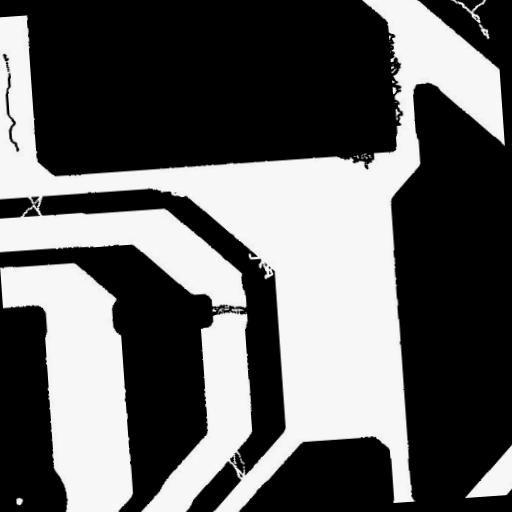copper: (0, 44, 27, 159)
mousebite: (144, 171, 198, 207), (240, 243, 281, 288)
open: (8, 184, 52, 230), (219, 438, 254, 494)
pin-hole: (430, 0, 497, 50)
short: (188, 292, 268, 326)
spur: (374, 24, 414, 138), (324, 128, 382, 180)
